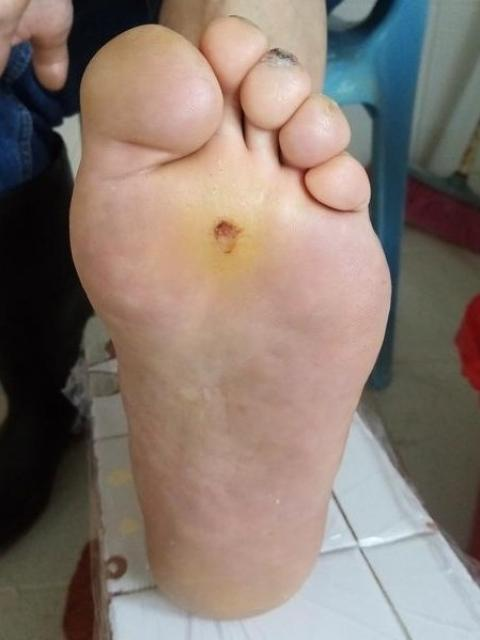wound: (211, 220, 246, 256)
